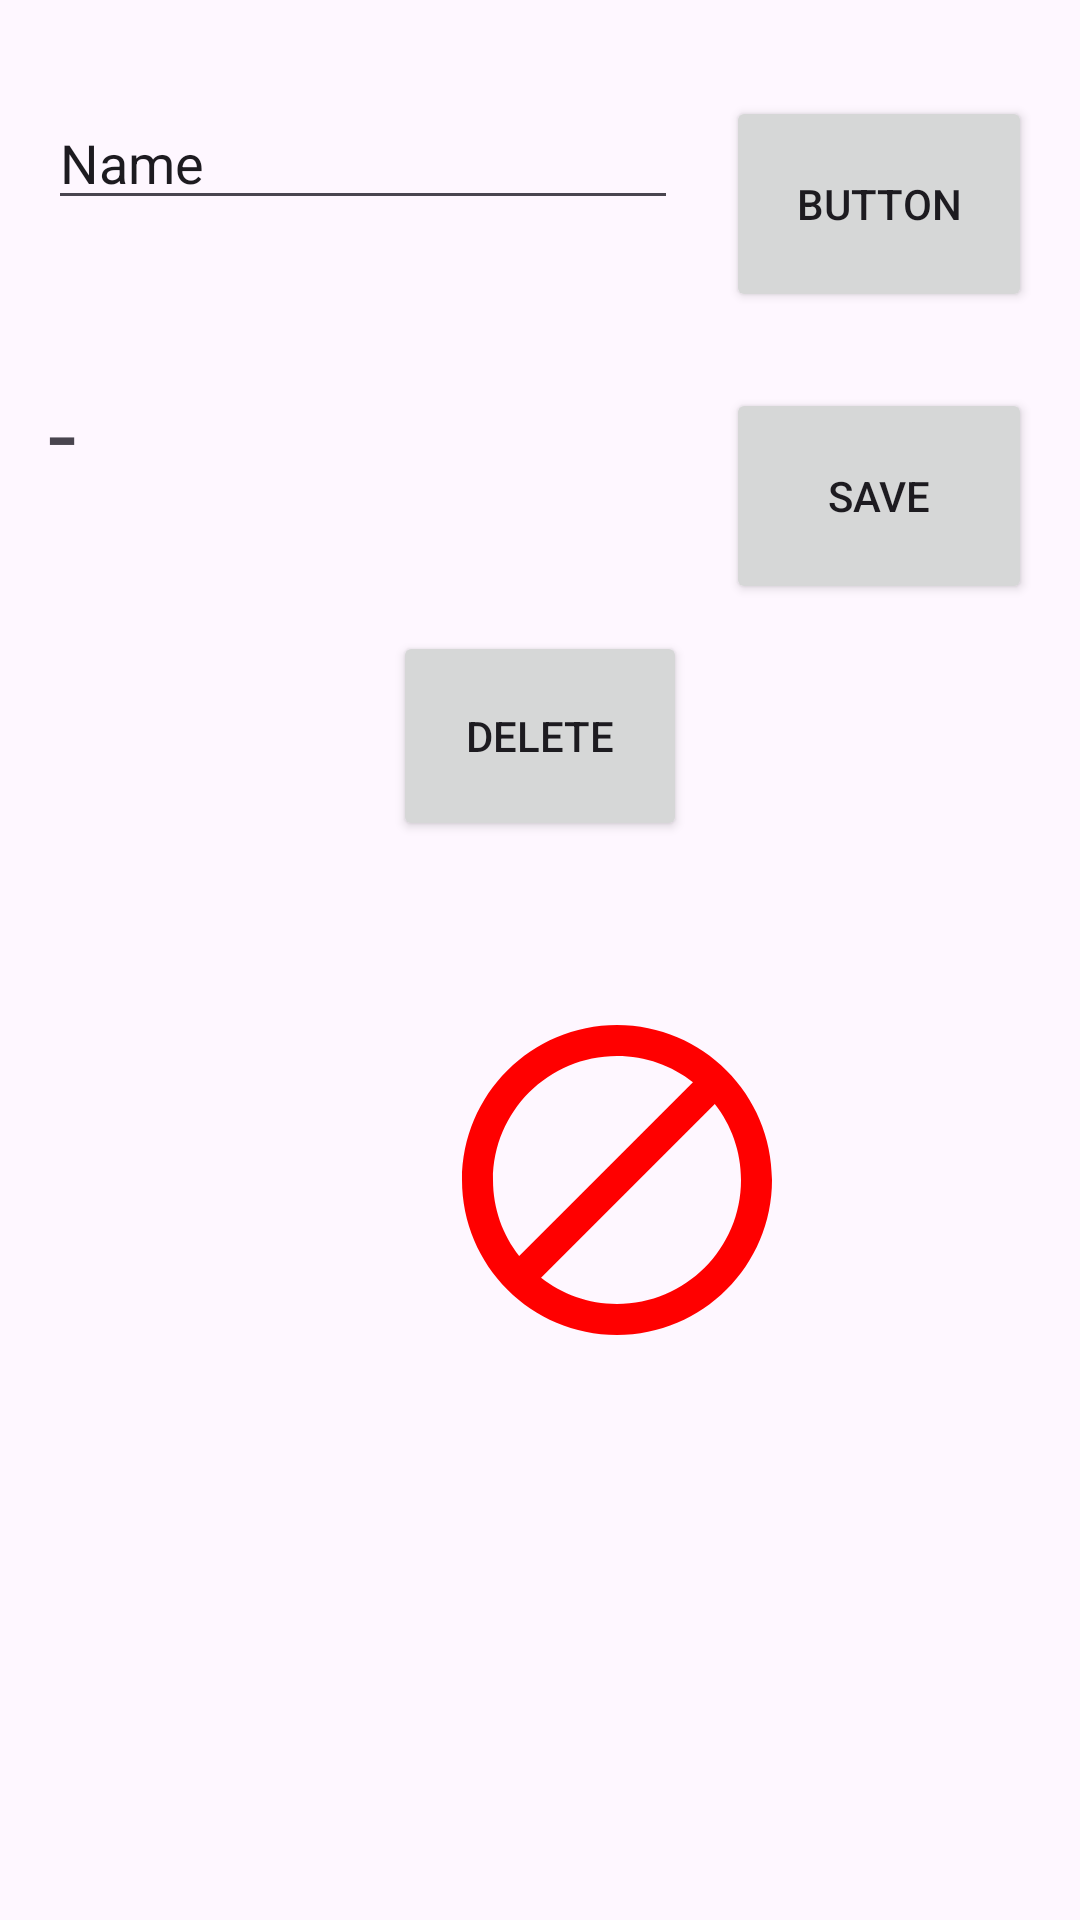

Screen size 1080*1920. Icon name, then its box in pixels as box=[x1, y1, x2, y2]:
block: box=[462, 1025, 772, 1335]
